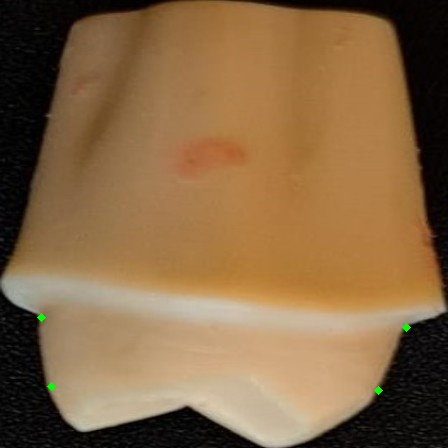coin_1: (41, 317, 61, 337)
coin_2: (51, 386, 71, 406)
coin_3: (406, 327, 426, 347)
coin_4: (378, 390, 398, 410)
